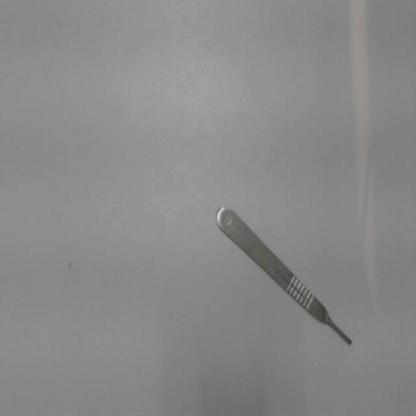No.3 BP Handle: (206, 185, 365, 366)
